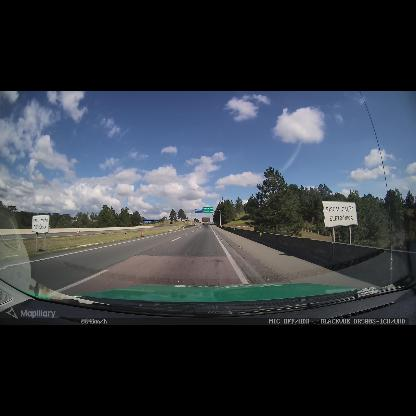I-SA: (322, 201, 358, 227), (32, 215, 50, 233)
O-MP: (179, 224, 181, 228)
